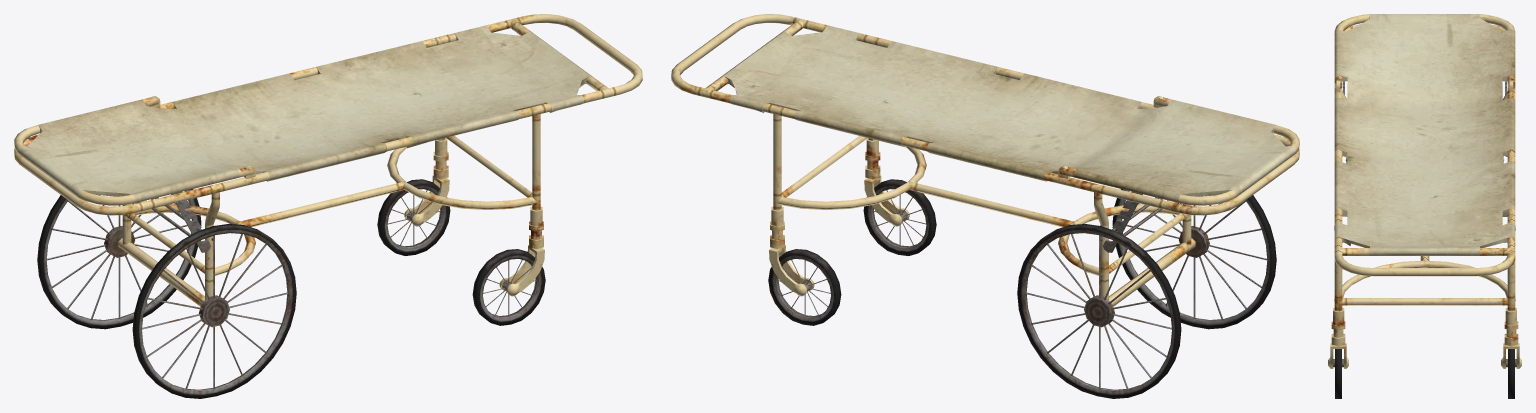
File: gurney.glb
The picture shows the model from 3 angles, left to right: view 1: azimuth 30°, elevation 25°; view 2: azimuth 150°, elevation 25°; view 3: azimuth 270°, elevation 25°; orthographic projection. The views are drawn at different scales.
Visible parts, largest first — view 1: zp_stretcher; view 2: zp_stretcher; view 3: zp_stretcher.
Part boxes in pixels (<box>): zp_stretcher: <box>14,14,642,398</box>; zp_stretcher: <box>671,14,1299,398</box>; zp_stretcher: <box>1328,14,1521,398</box>.
Size of the model in its own units: 2.49 by 0.9332 by 0.8205.
1 material, 1 textured.
